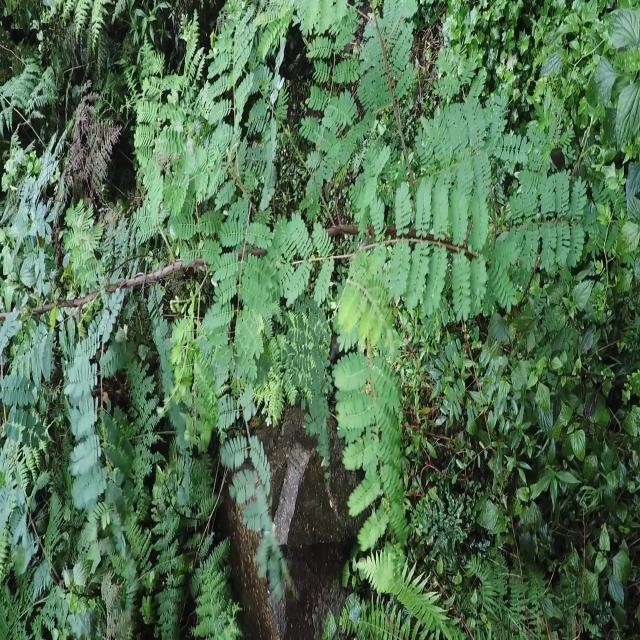Mysore-Thorn-Weed: (0, 0, 618, 551)
